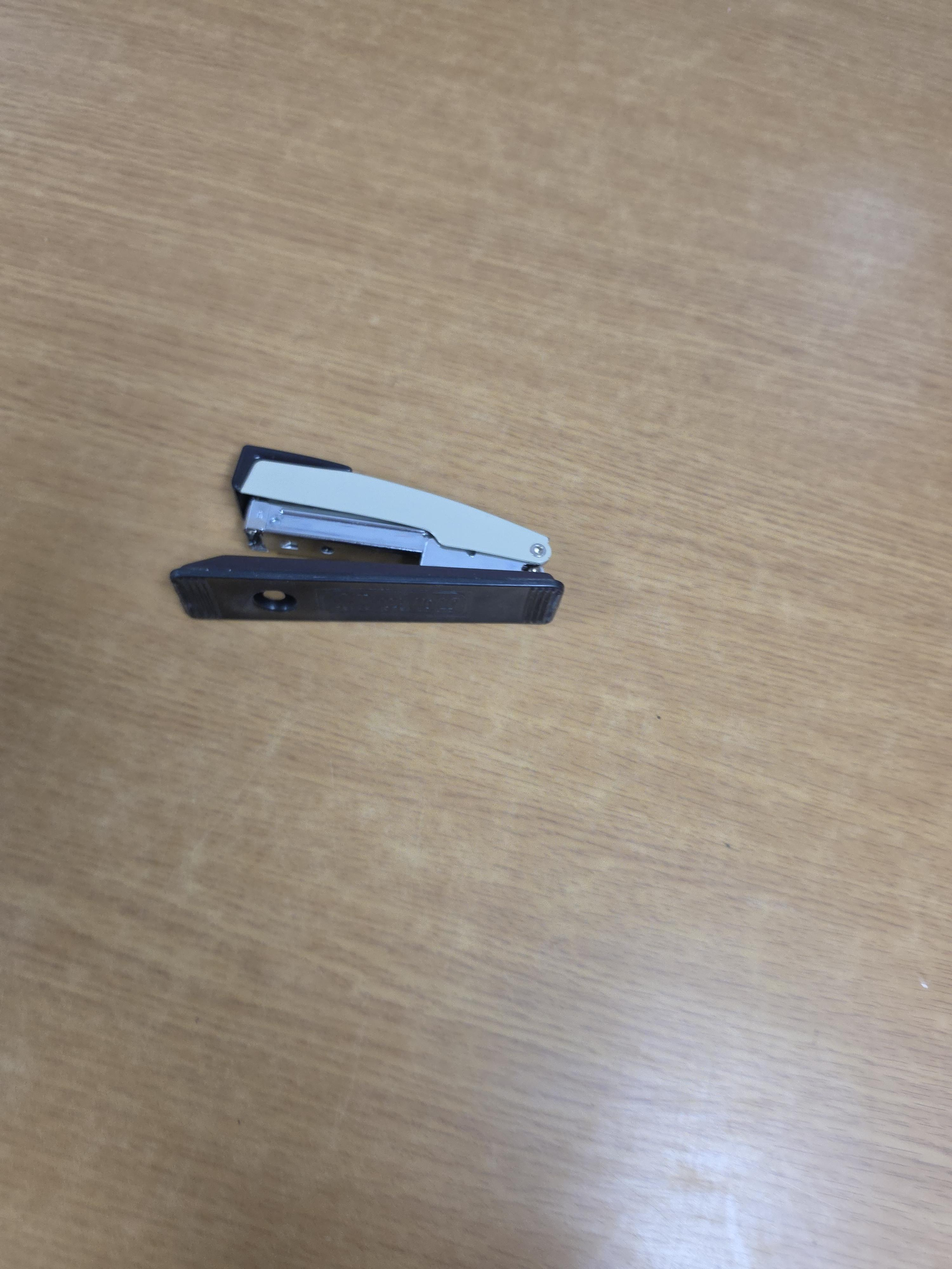stapler: (169, 444, 565, 625)
